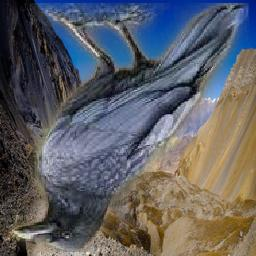Crow: (13, 4, 250, 253)
